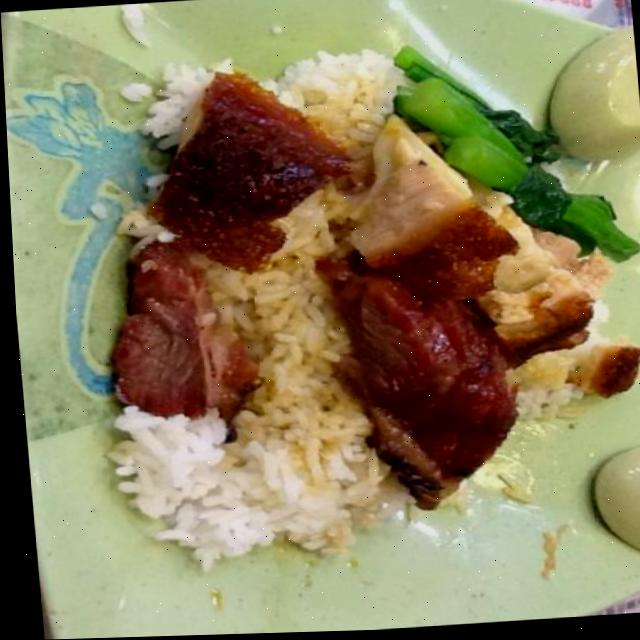猪肉菜式: (38, 10, 640, 560)
